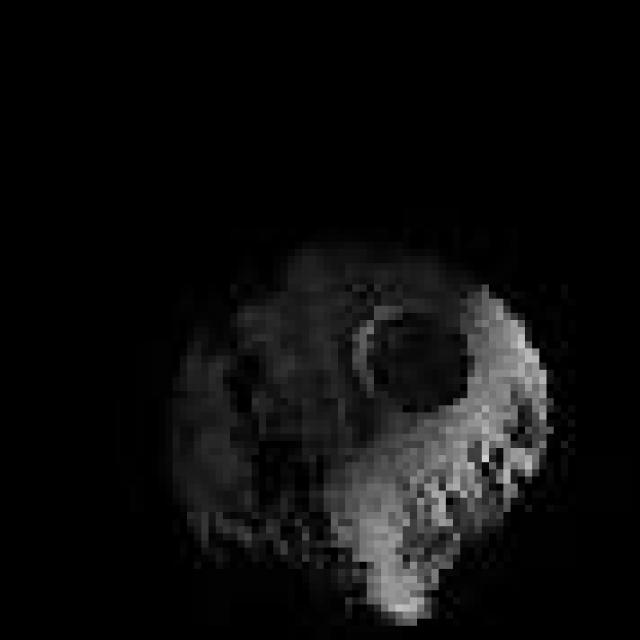Death Star: (151, 227, 561, 633)
